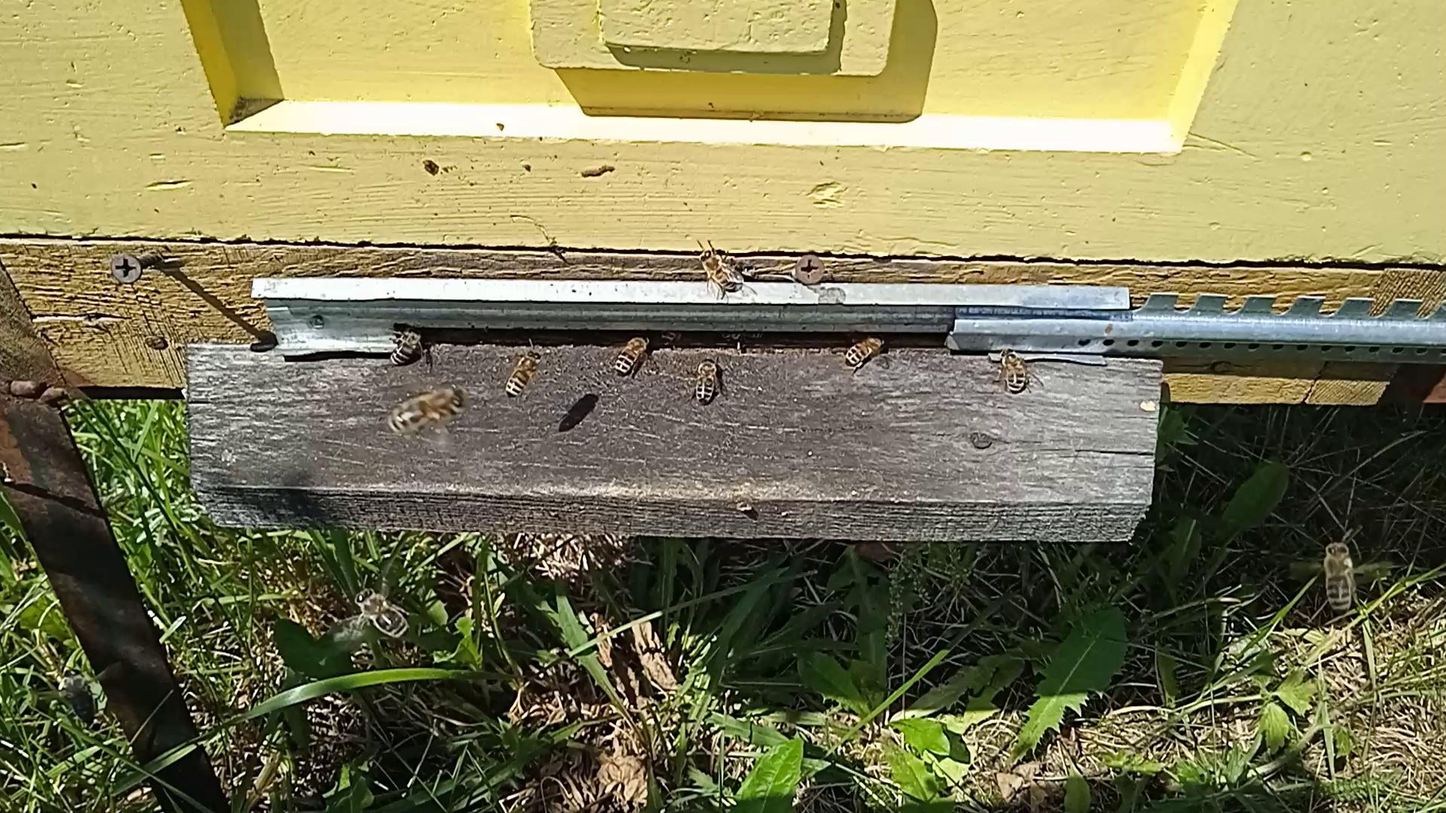worker-bee: (386, 385, 468, 437), (354, 588, 410, 638), (1322, 539, 1356, 615), (697, 250, 743, 292), (504, 349, 542, 398), (61, 671, 95, 725), (613, 332, 654, 376), (997, 348, 1030, 395), (843, 334, 888, 368), (389, 327, 427, 365), (693, 357, 721, 404), (657, 330, 684, 347)
